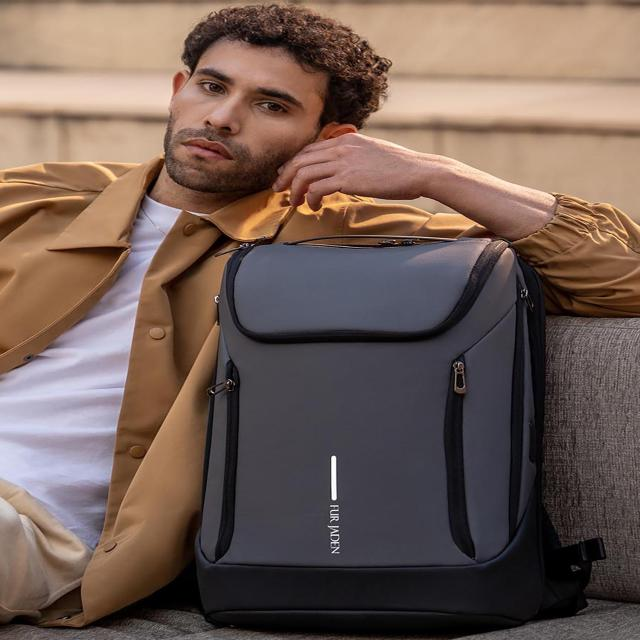backpack: (194, 234, 606, 636)
